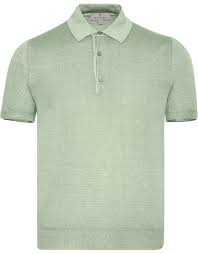C_polo shirt: (11, 4, 197, 254)
